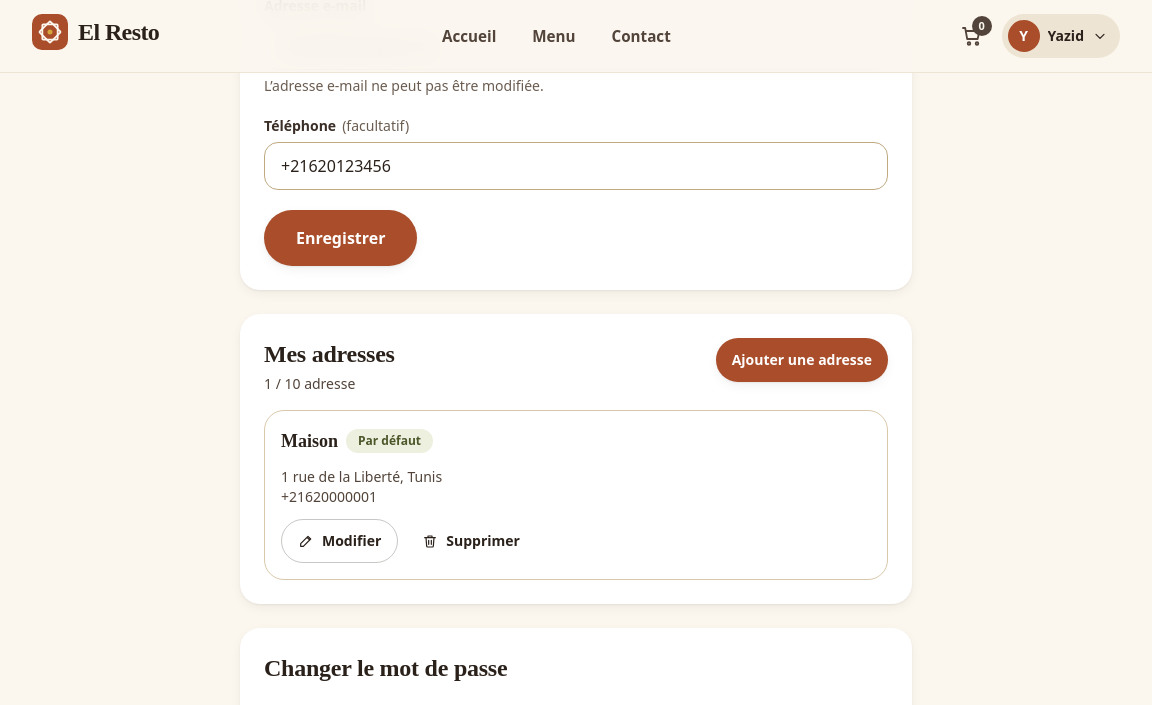
Test: profil : Mes adresses › 409 du serveur (limite atteinte) : message explicite dans le dialogue
(page scrolled)
Click the button "Ajouter une adresse" at (802,360), box [716,338,888,382]
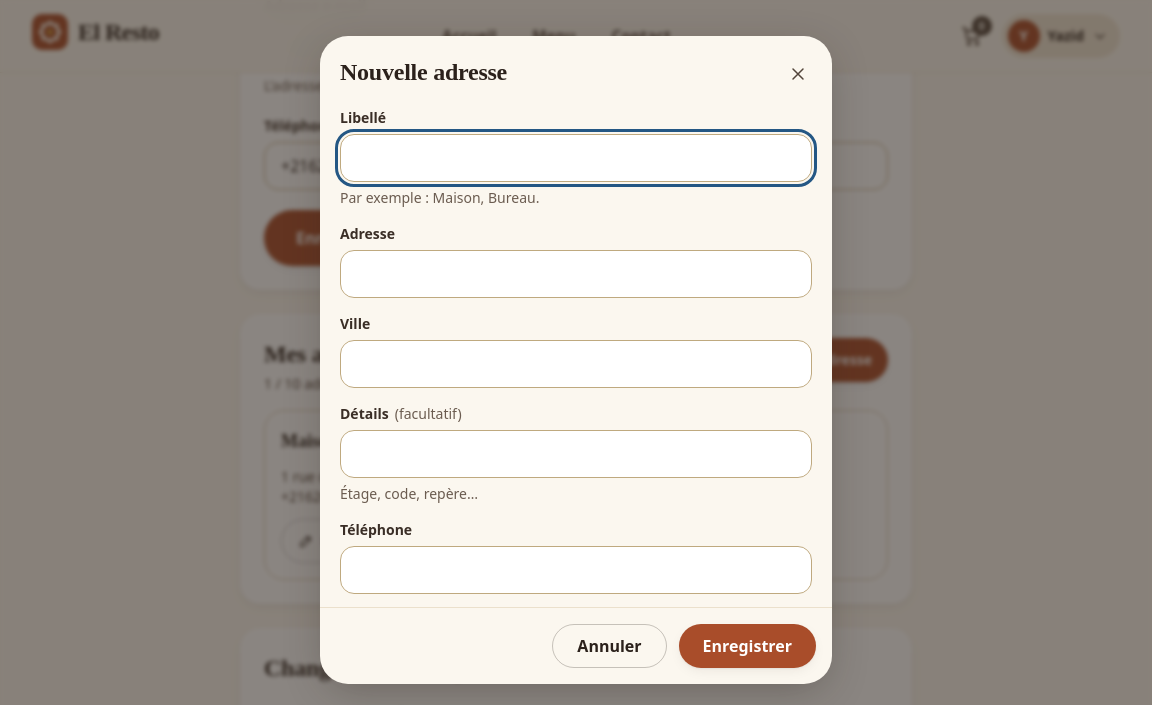
Type "Bureau" into the field labelled "Libellé" at (576,158), box [340,134,812,182]
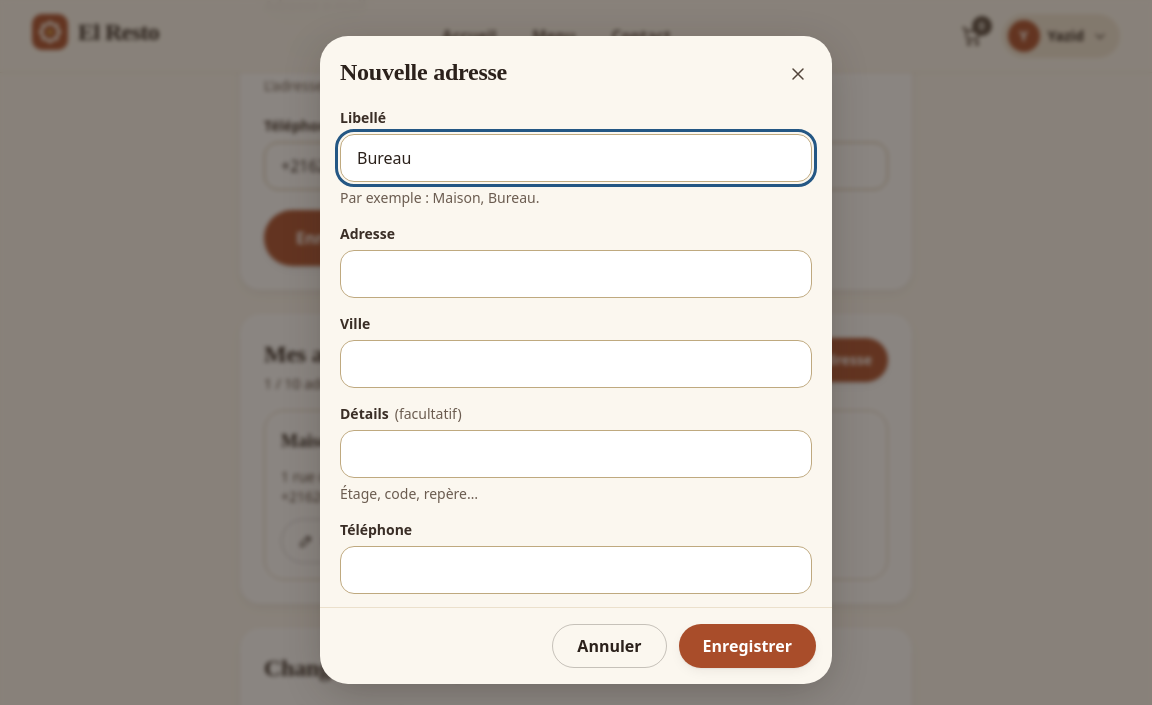
Type "5 avenue Habib Bourguiba" into the field labelled "Adresse" at (576,274), box [340,250,812,298]
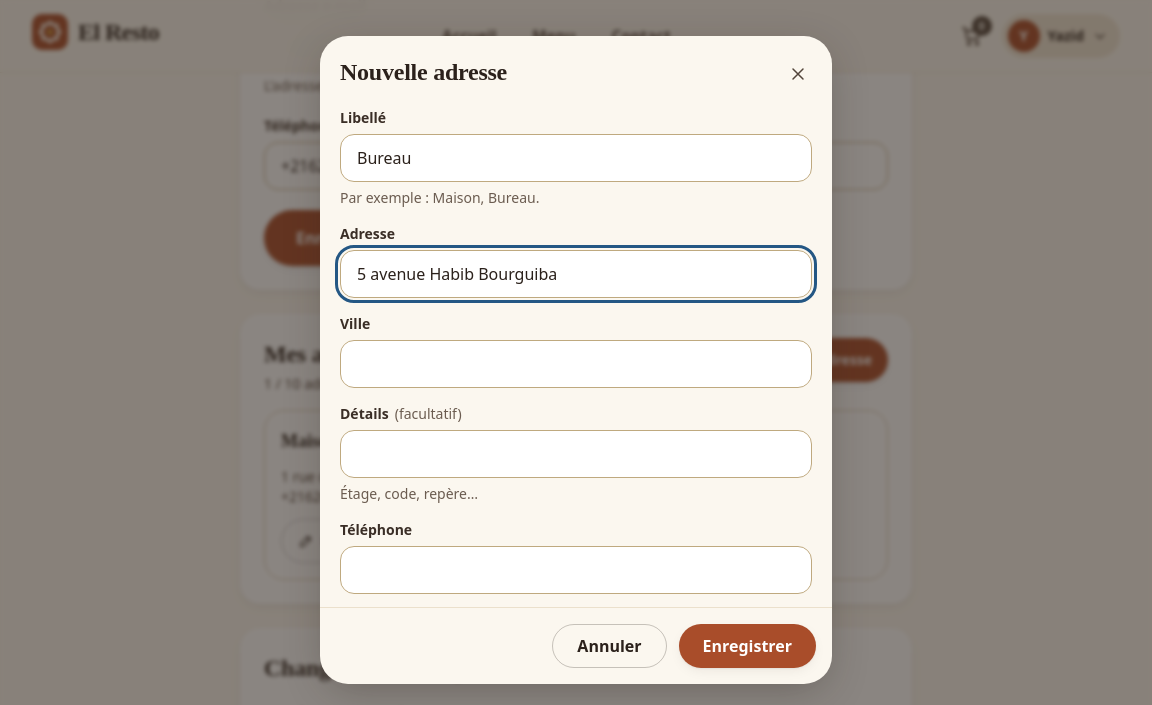
Type "Tunis" into the field labelled "Ville" at (576,364), box [340,340,812,388]
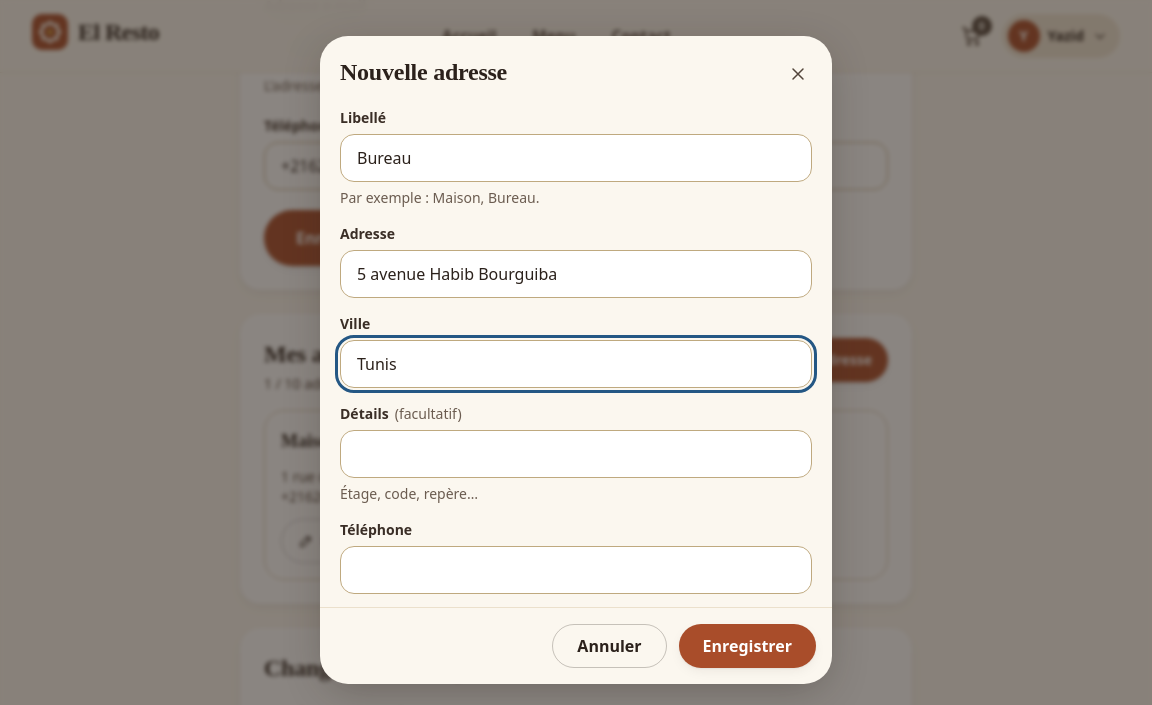
Type "+21620123456" into the field labelled "Téléphone" at (576,570), box [340,546,812,594]
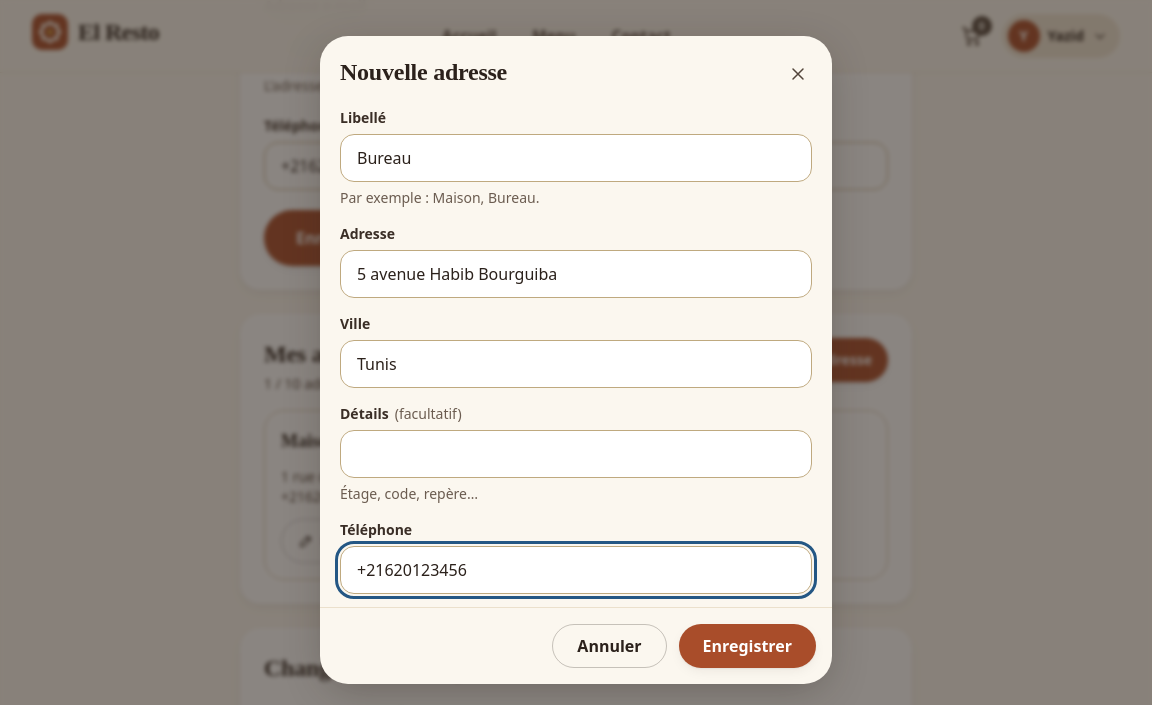
Click the button "Enregistrer" at (747,646), box [678,624,816,668]
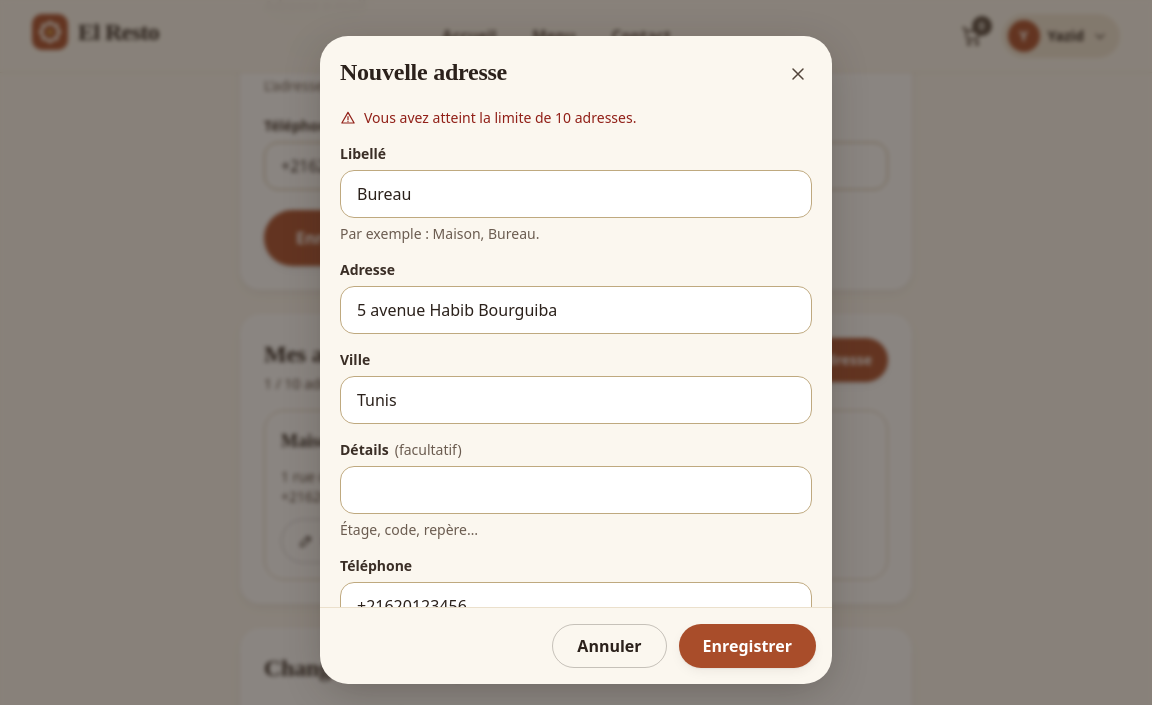
Now the text "Vous avez atteint la limite de 10 adresses." is shown, box [340,108,636,127]
